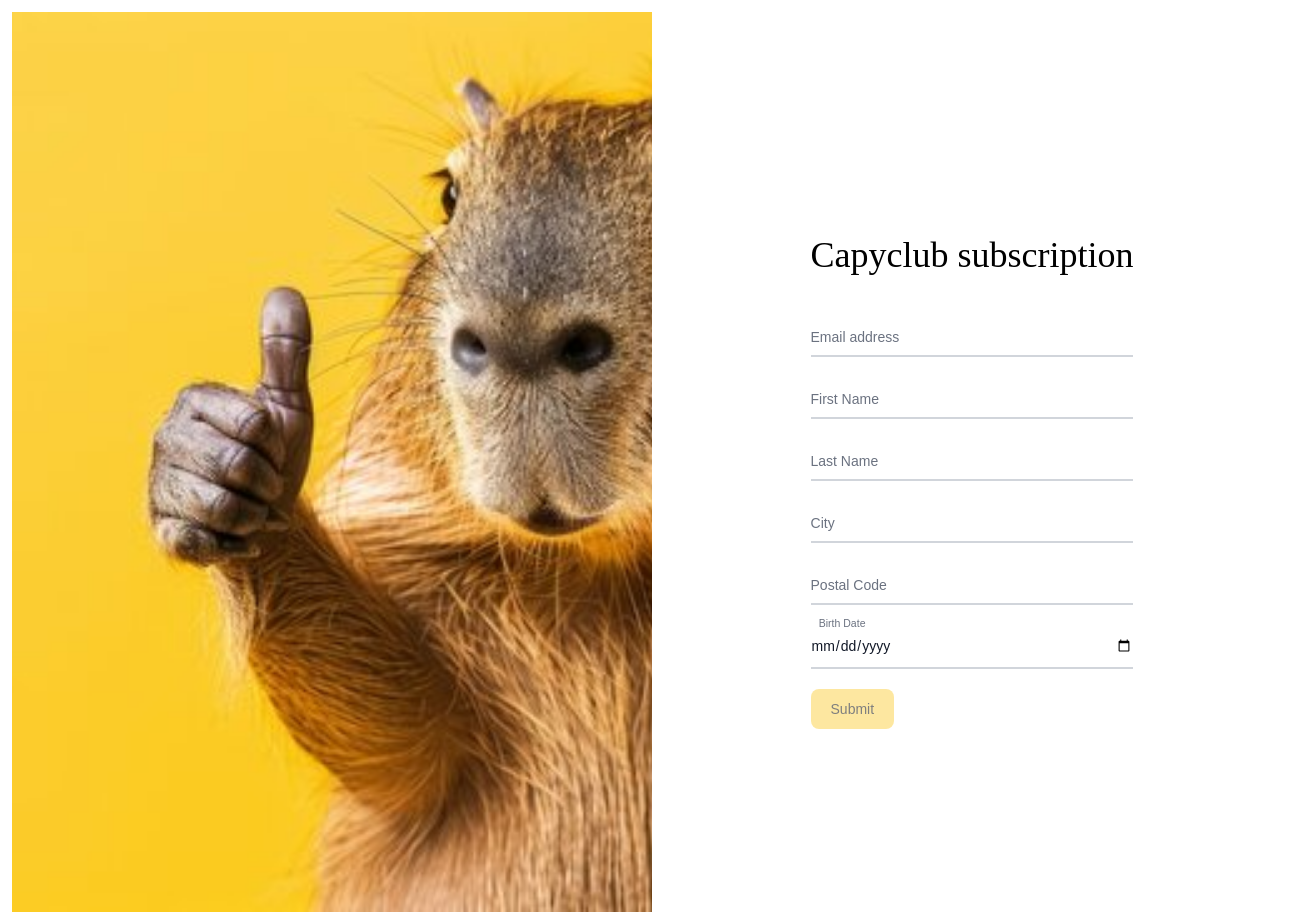
Test: RegisterForm component › should set isFormReady to true when all fields are filled
Type "john.doe@example.com" into the field with test id "email-input". click: (972,336)
box: x1=810 y1=315 x2=1134 y2=357
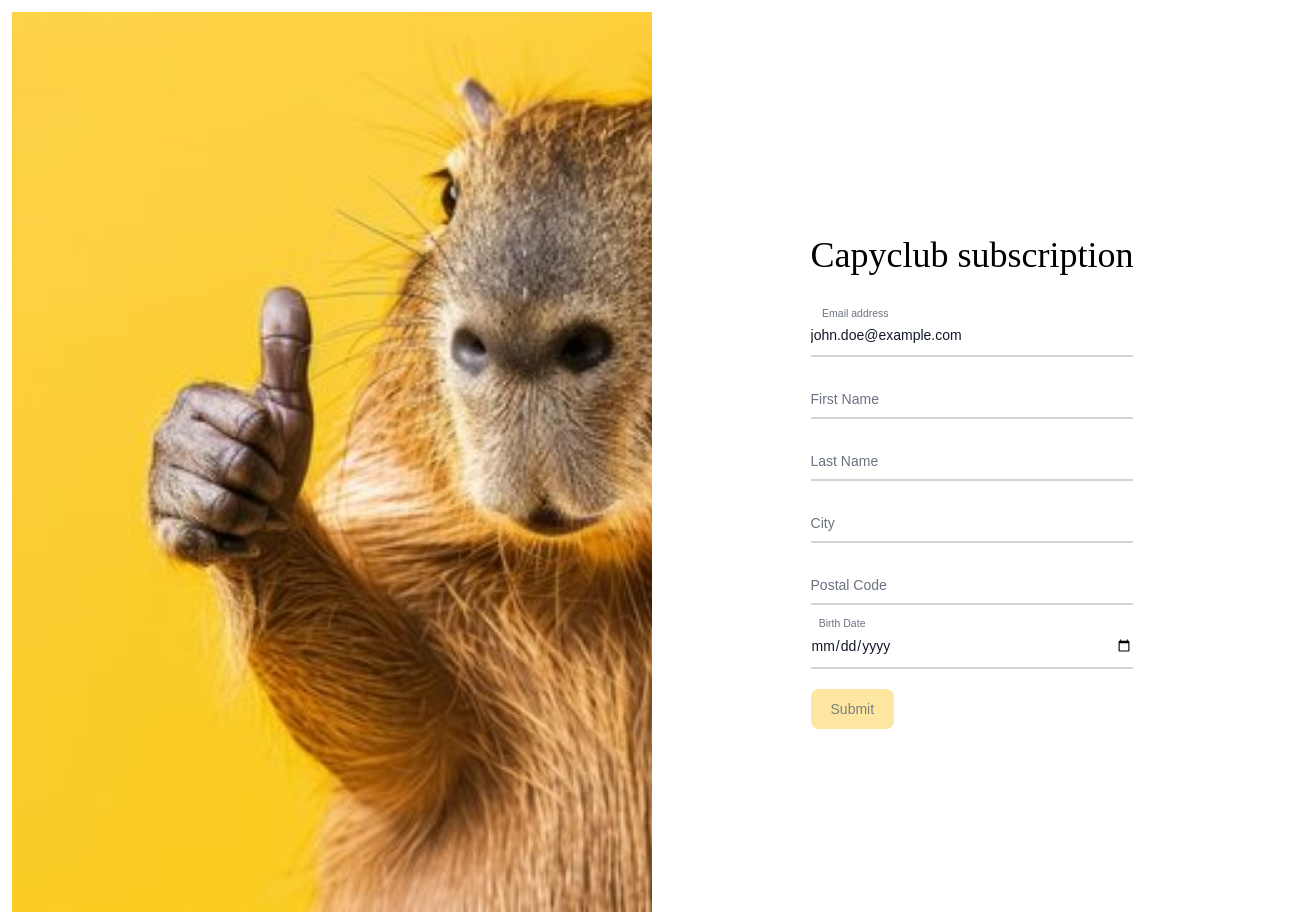
Type "John" into the field with test id "first-name-input". click: (972,398)
box: x1=810 y1=377 x2=1134 y2=419
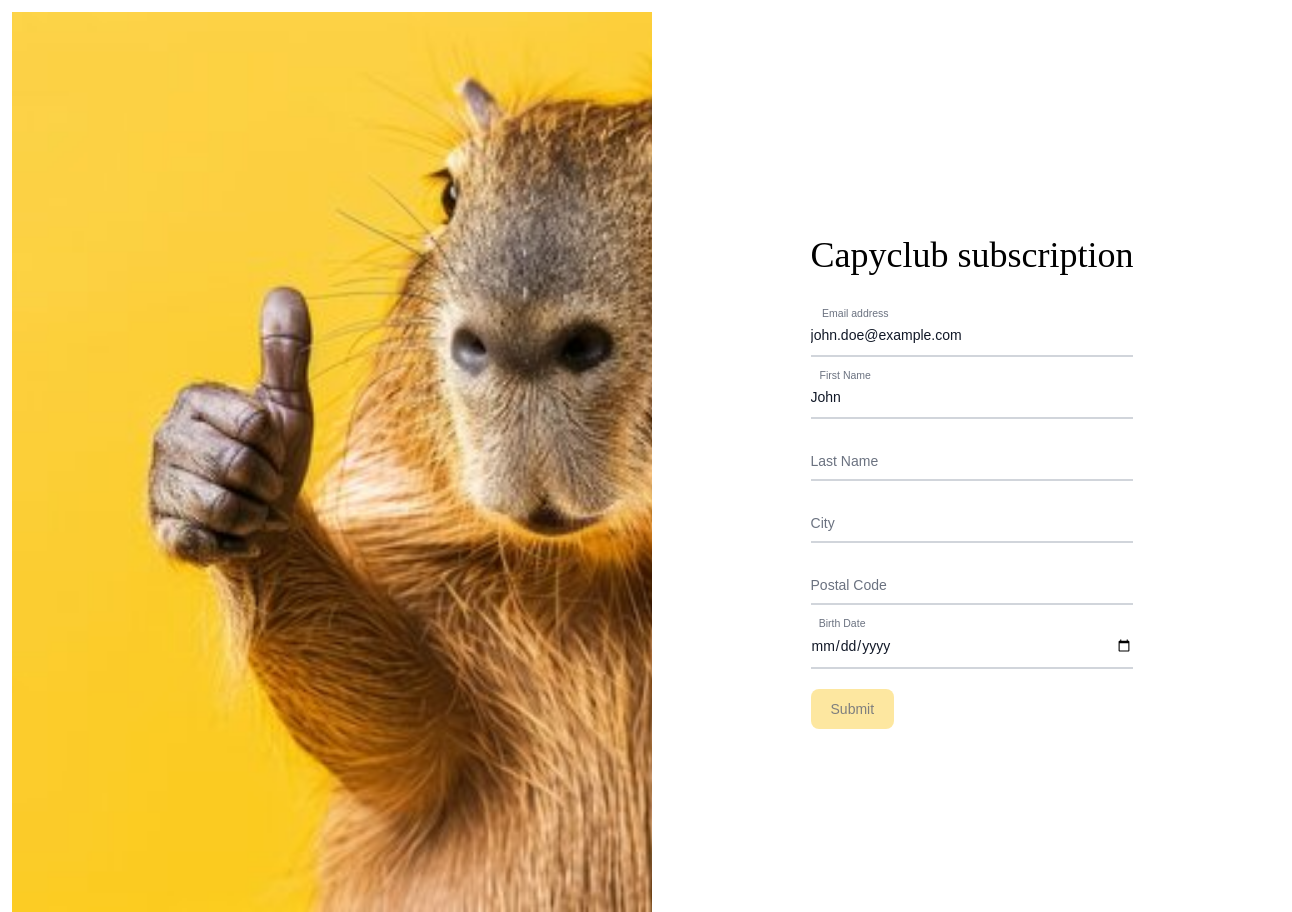
Type "Doe" into the field with test id "last-name-input". click: (972,460)
box: x1=810 y1=439 x2=1134 y2=481
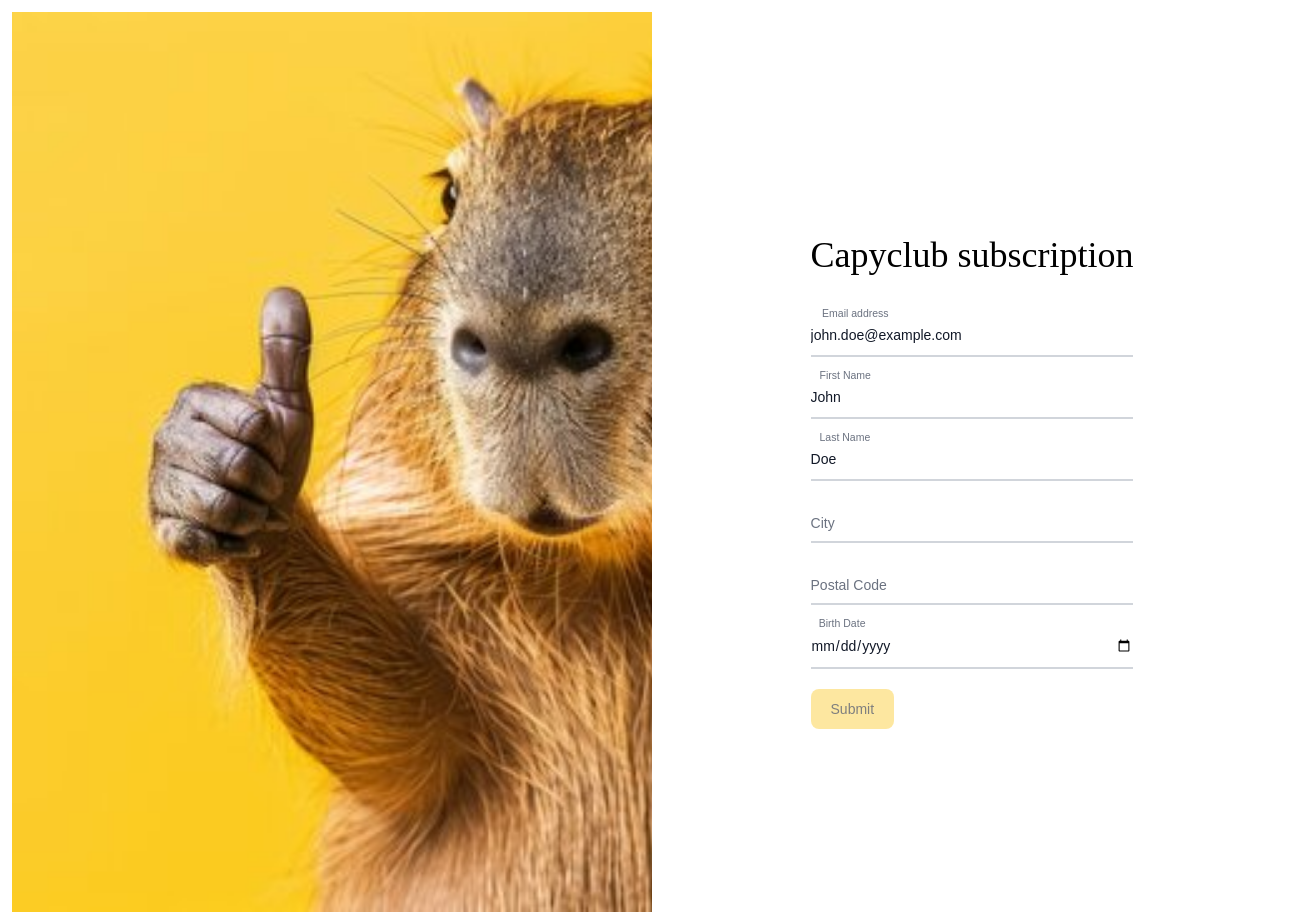
Type "City" into the field with test id "city-input". click: (972,522)
box: x1=810 y1=501 x2=1134 y2=543
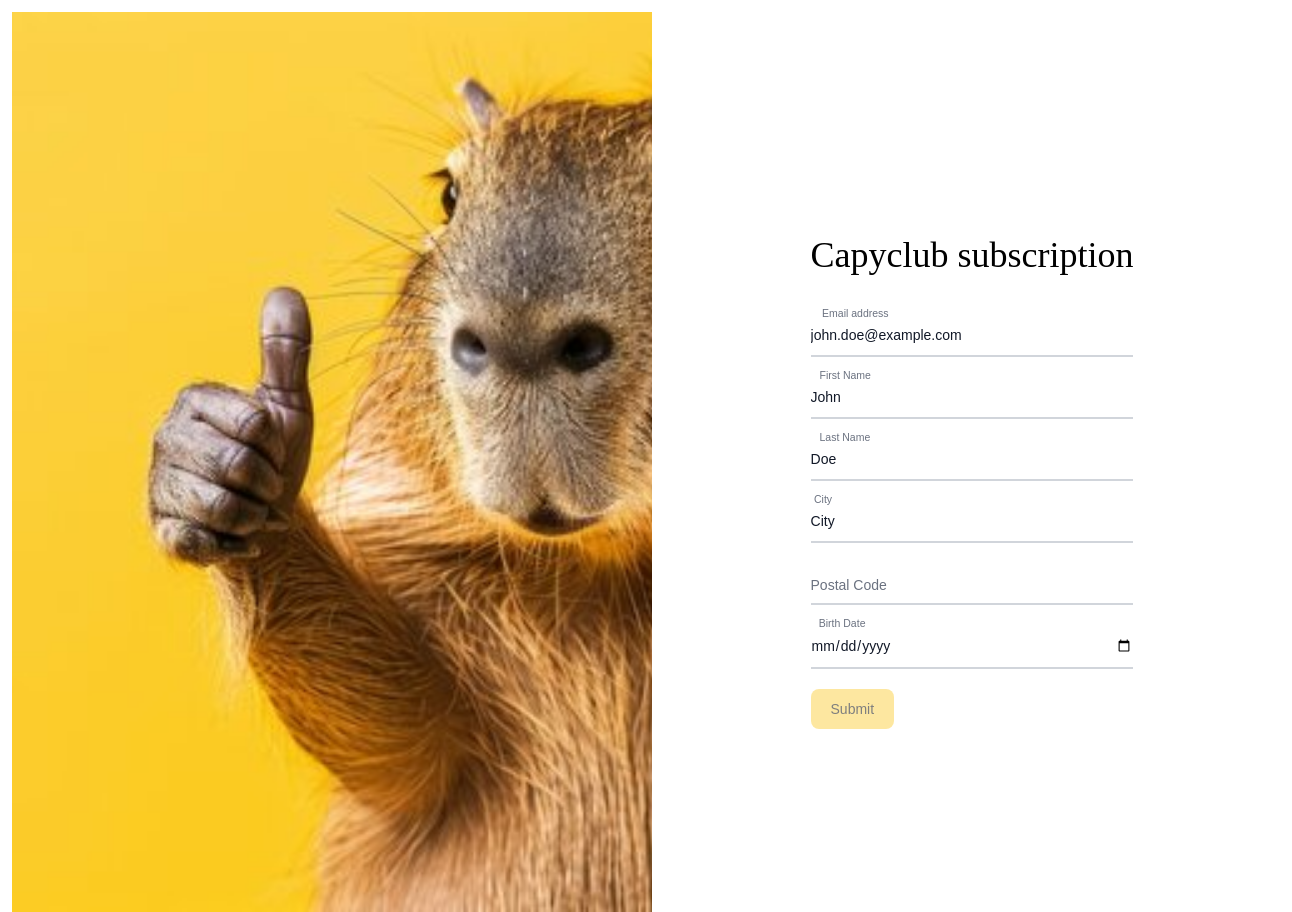
Type "12345" into the field with test id "postal-code-input". click: (972,584)
box: x1=810 y1=563 x2=1134 y2=605
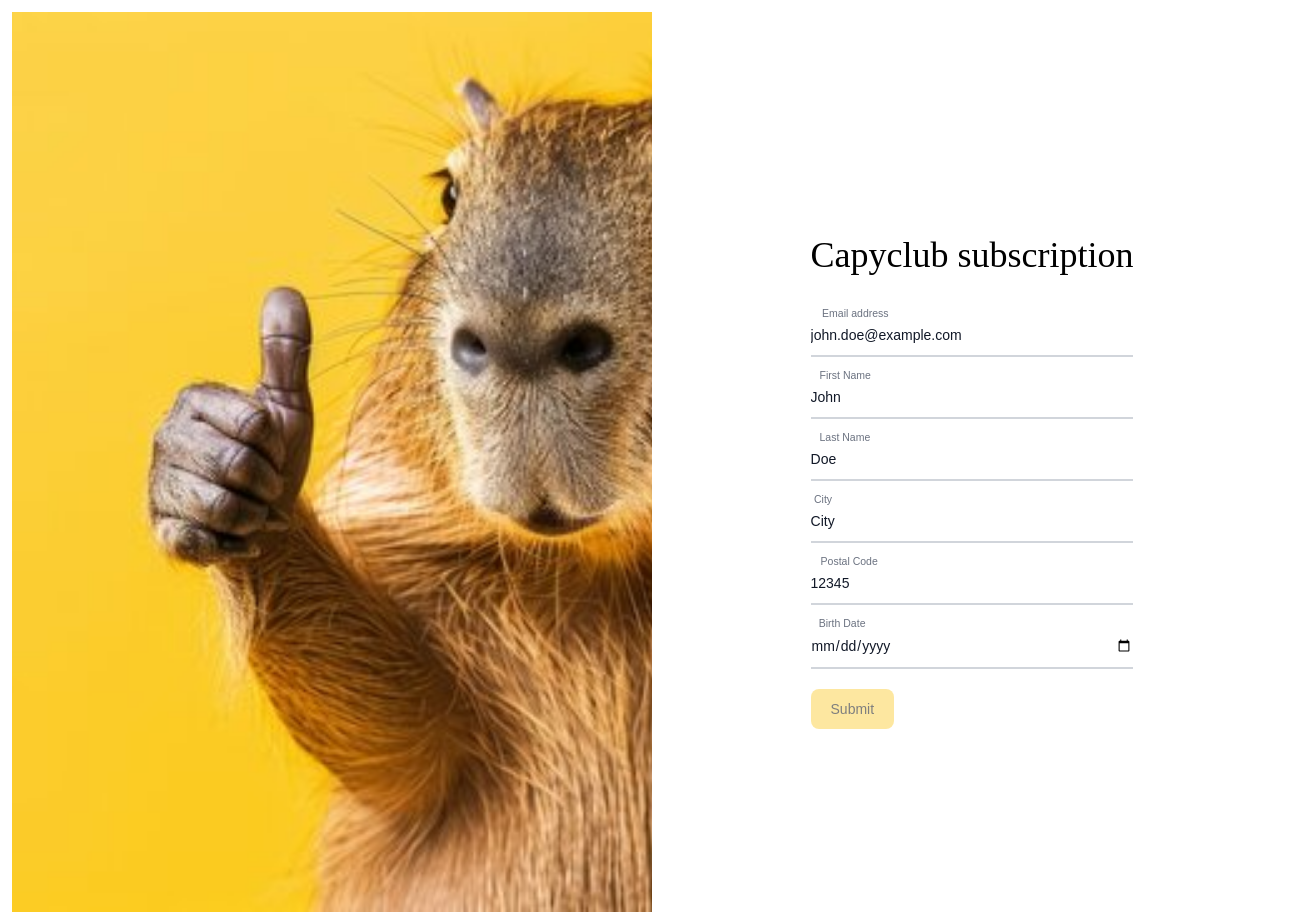
Type "2000-01-01" into the date field with test id "birth-date-input". click: (972,647)
box: x1=810 y1=625 x2=1134 y2=669
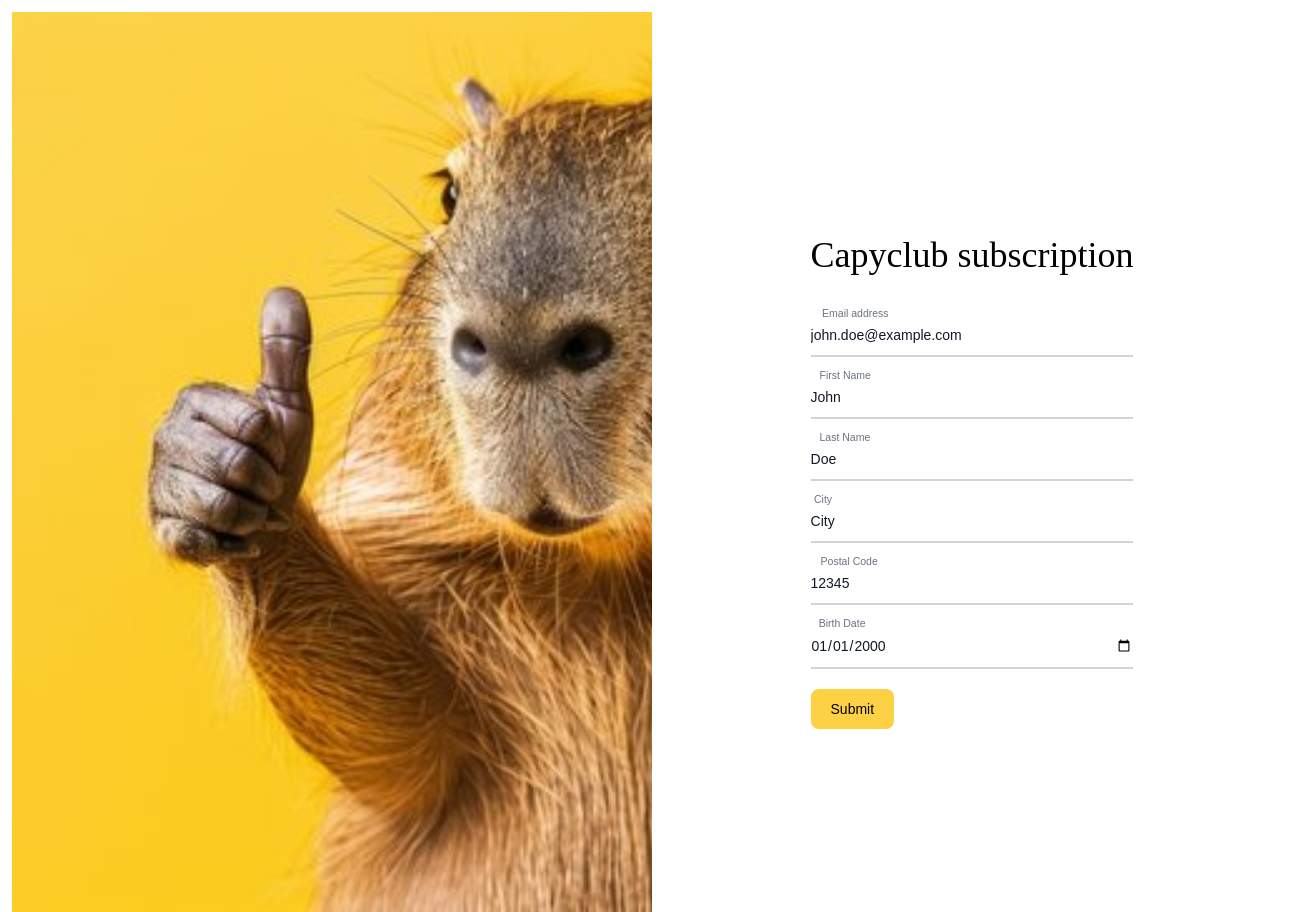
expect the button with test id "submit-button" is enabled: met, box x1=810 y1=689 x2=894 y2=729
